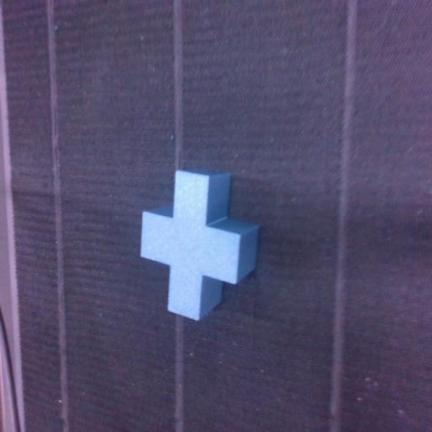cross: (141, 171, 258, 319)
